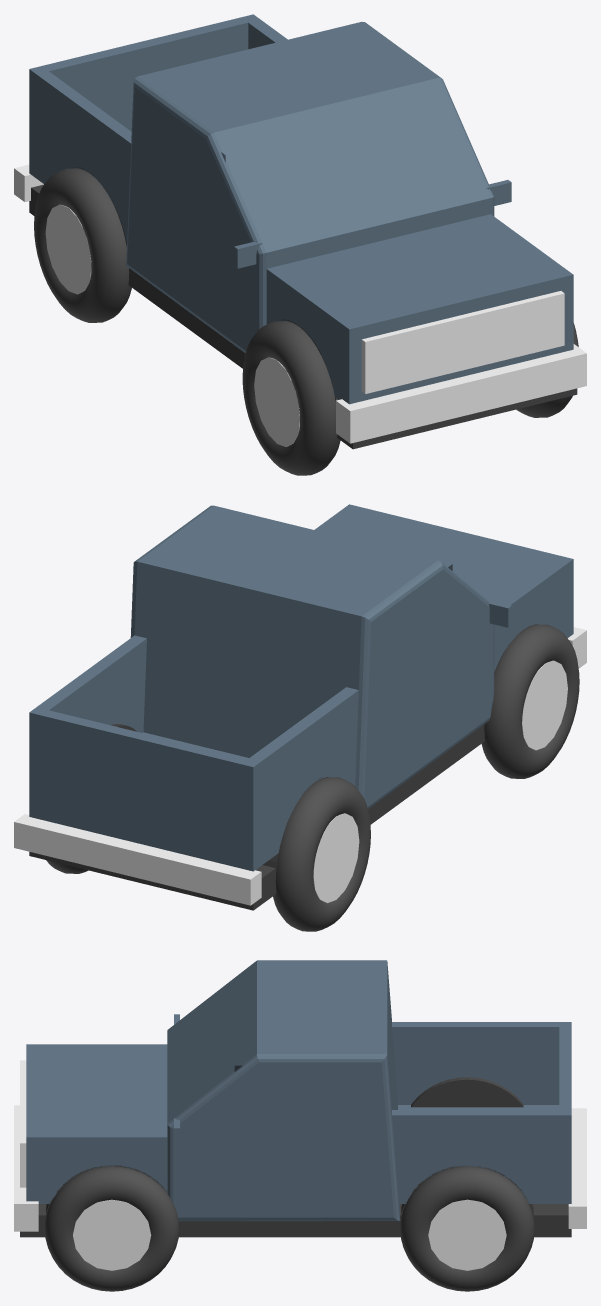
The model's file is a-pickup-truck.gltf.
The picture shows the model from 3 angles, top to bottom: view 1: azimuth 30°, elevation 25°; view 2: azimuth 150°, elevation 25°; view 3: azimuth 270°, elevation 25°; orthographic projection. The views are drawn at different scales.
Bounding box in the file's own units: 2.2 × 2.1 × 4.68.
